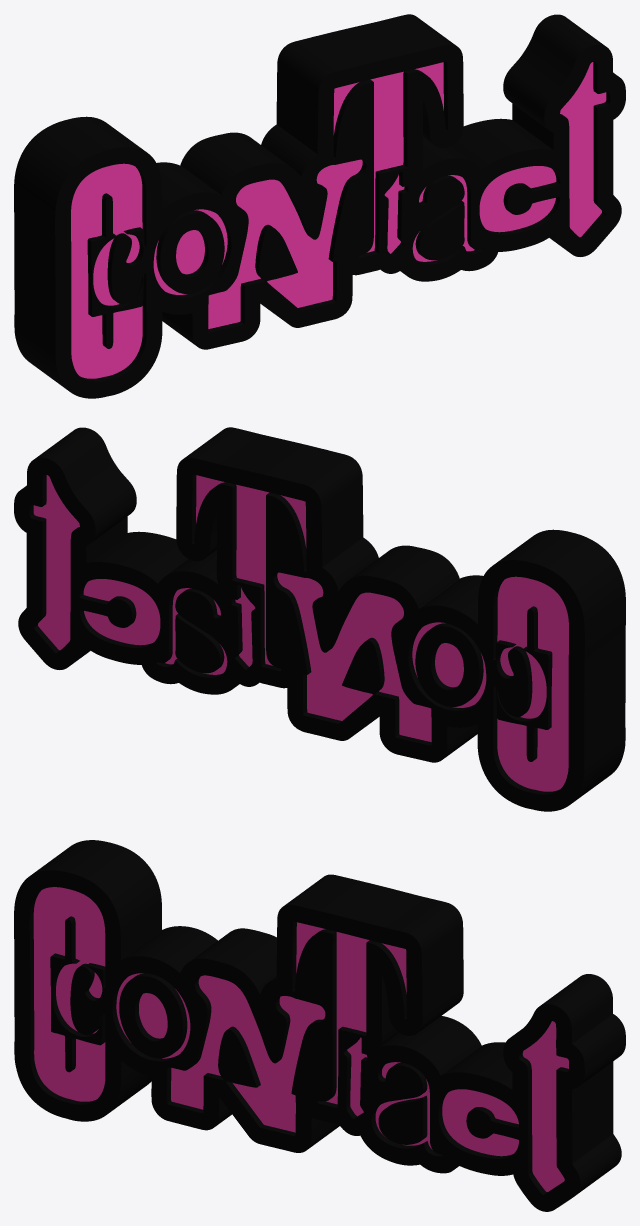
File: contact.glb
3 views of the same model, one above another, from view 1: azimuth 30°, elevation 25°; view 2: azimuth 150°, elevation 25°; view 3: azimuth 330°, elevation 25° (orthographic).
Visible parts, largest first — view 1: Curve.001; view 2: Curve.001; view 3: Curve.001.
Boxes of the visible parts, bbox=[...] form: Curve.001: bbox=[14, 14, 625, 398]; Curve.001: bbox=[14, 427, 625, 811]; Curve.001: bbox=[14, 840, 625, 1211].
Bounding box in the file's own units: 0.0664 × 0.03 × 0.00829.
